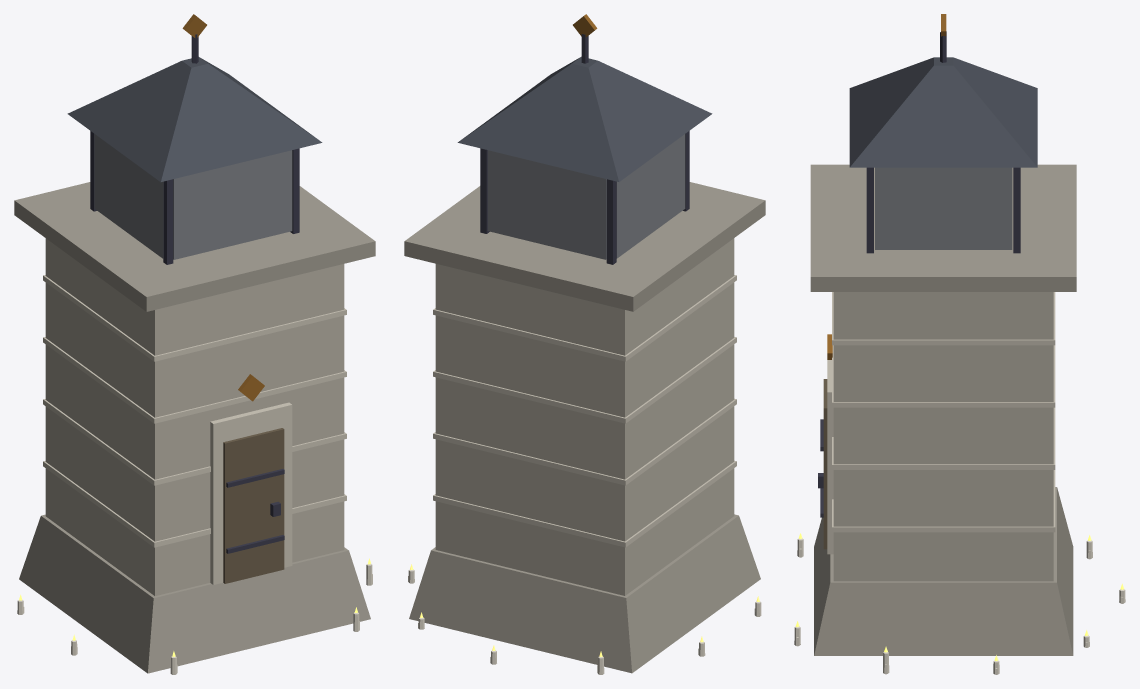
The model's file is vigil_light.glb.
The picture shows the model from 3 angles, left to right: view 1: azimuth 30°, elevation 25°; view 2: azimuth 150°, elevation 25°; view 3: azimuth 270°, elevation 25°; orthographic projection.
Parts seen in each view (by area): view 1: bone_d20, bone_d30, slate_d30, silverfog_d35, bone_d12, driftwood_d45, ink_l15, bone_l10; view 2: bone_d20, bone_d30, slate_d30, silverfog_d35, bone_d12, ink_l15, bone_l10; view 3: bone_d20, bone_d30, slate_d30, silverfog_d35, bone_d12, ink_l15, driftwood_d45, bone_l10.
Boxes of the visible parts, x1=… form: bone_d20: x1=45, y1=238, x2=344, y2=595; bone_d30: x1=14, y1=182, x2=375, y2=673; slate_d30: x1=67, y1=57, x2=322, y2=181; silverfog_d35: x1=94, y1=134, x2=292, y2=259; bone_d12: x1=43, y1=275, x2=346, y2=584; driftwood_d45: x1=223, y1=428, x2=284, y2=583; ink_l15: x1=90, y1=34, x2=299, y2=553; bone_l10: x1=17, y1=564, x2=372, y2=674; bone_d20: x1=435, y1=238, x2=734, y2=595; bone_d30: x1=404, y1=182, x2=765, y2=673; slate_d30: x1=457, y1=56, x2=712, y2=181; silverfog_d35: x1=487, y1=134, x2=685, y2=259; bone_d12: x1=433, y1=275, x2=736, y2=547; ink_l15: x1=480, y1=34, x2=689, y2=264; bone_l10: x1=408, y1=569, x2=761, y2=674; bone_d20: x1=833, y1=292, x2=1053, y2=581; bone_d30: x1=810, y1=164, x2=1076, y2=655; slate_d30: x1=849, y1=57, x2=1037, y2=167; silverfog_d35: x1=875, y1=167, x2=1012, y2=249; bone_d12: x1=827, y1=292, x2=1055, y2=554; ink_l15: x1=818, y1=31, x2=1020, y2=517; driftwood_d45: x1=823, y1=379, x2=827, y2=549; bone_l10: x1=794, y1=538, x2=1125, y2=674.
Size of the model in its own units: 3.8 by 7.07 by 3.61.
